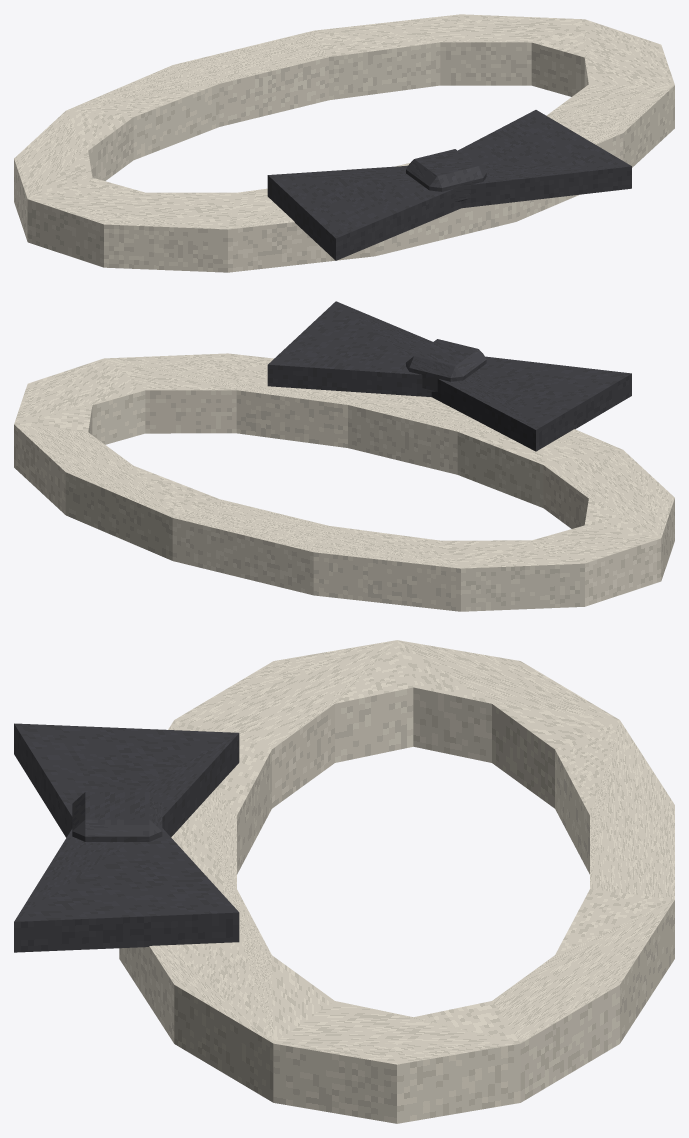
Rendered from collar_playboy.glb.
3 renders of one model, top to bottom at view 1: azimuth 30°, elevation 25°; view 2: azimuth 150°, elevation 25°; view 3: azimuth 270°, elevation 25°, orthographic. The views are drawn at different scales.
Parts seen in each view (by area): view 1: block_white detached collar, block_black bow tie wing (×2), block_bow tie knot; view 2: block_white detached collar, block_black bow tie wing (×2), block_bow tie knot; view 3: block_white detached collar, block_black bow tie wing (×2), block_bow tie knot.
Boxes of the visible parts, <box> form: block_white detached collar: <box>14,14,674,272</box>; block_black bow tie wing (×2): <box>267,110,631,260</box>; block_bow tie knot: <box>406,149,486,201</box>; block_white detached collar: <box>14,353,674,611</box>; block_black bow tie wing (×2): <box>267,301,631,451</box>; block_bow tie knot: <box>406,339,486,391</box>; block_white detached collar: <box>119,640,674,1123</box>; block_black bow tie wing (×2): <box>14,723,239,952</box>; block_bow tie knot: <box>72,792,162,841</box>.
Size of the model in its own units: 0.129 by 0.015 by 0.0849.
Materials: 1 (1 with a texture image).
